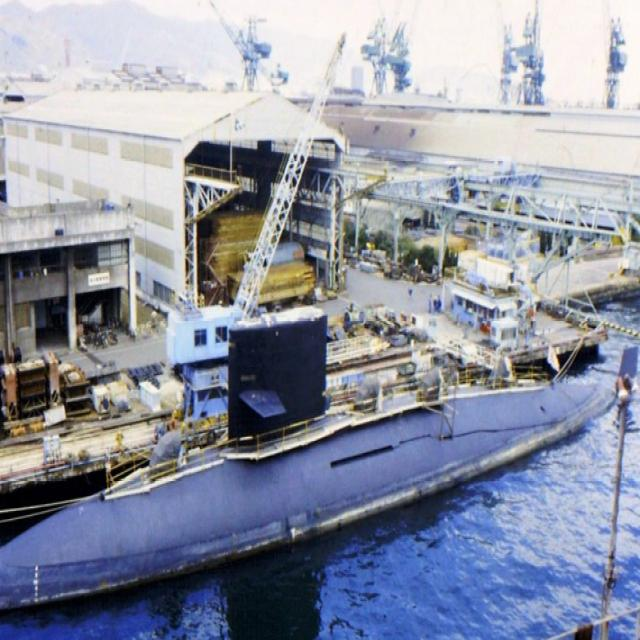submarine: (1, 311, 640, 616)
